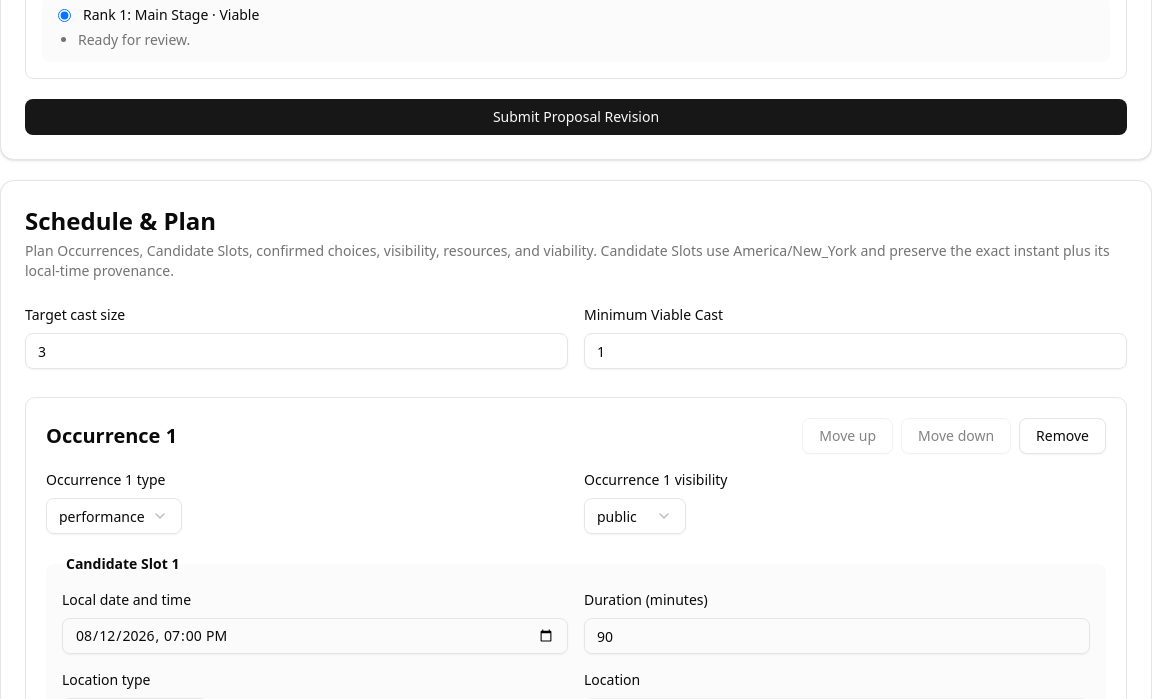
Test: ProposalPreparation › preserves a dirty plan while saving and refreshing the Proposed Cast
The image size is (1152, 699).
(page scrolled)
Replace the text in the number field labelled "Target cast size" with "4" at (296, 351), box 25,333 -> 568,369
(page scrolled)
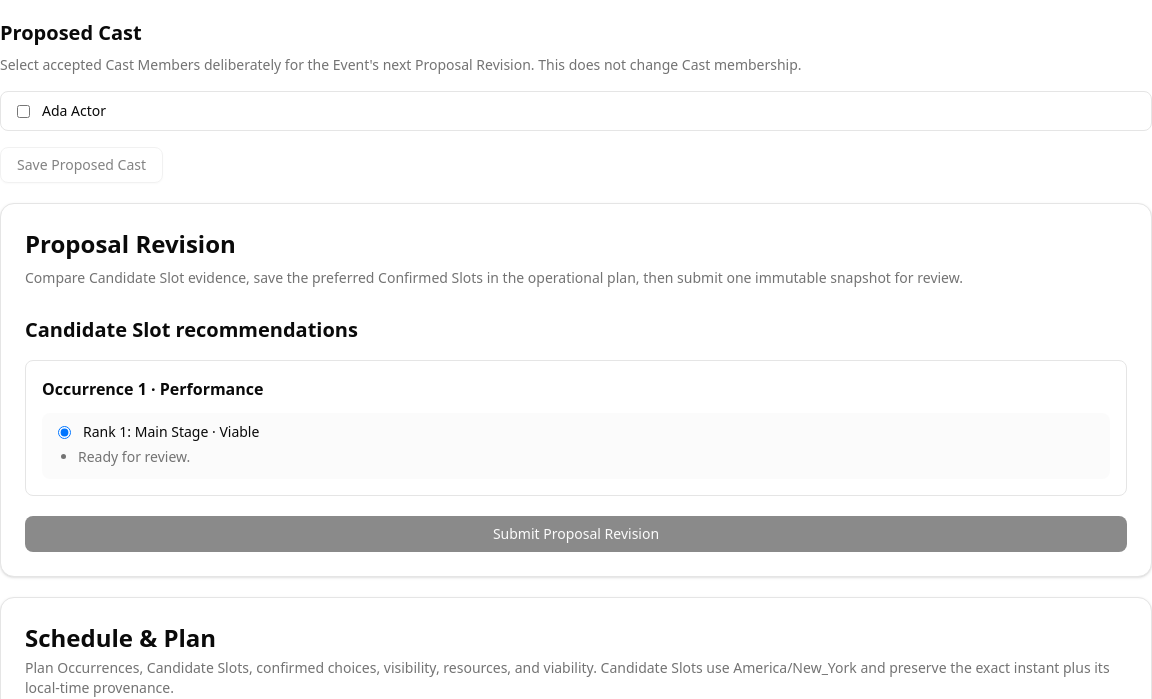
Click the checkbox labelled "Ada Actor" at (24, 111), box 17,104 -> 30,118
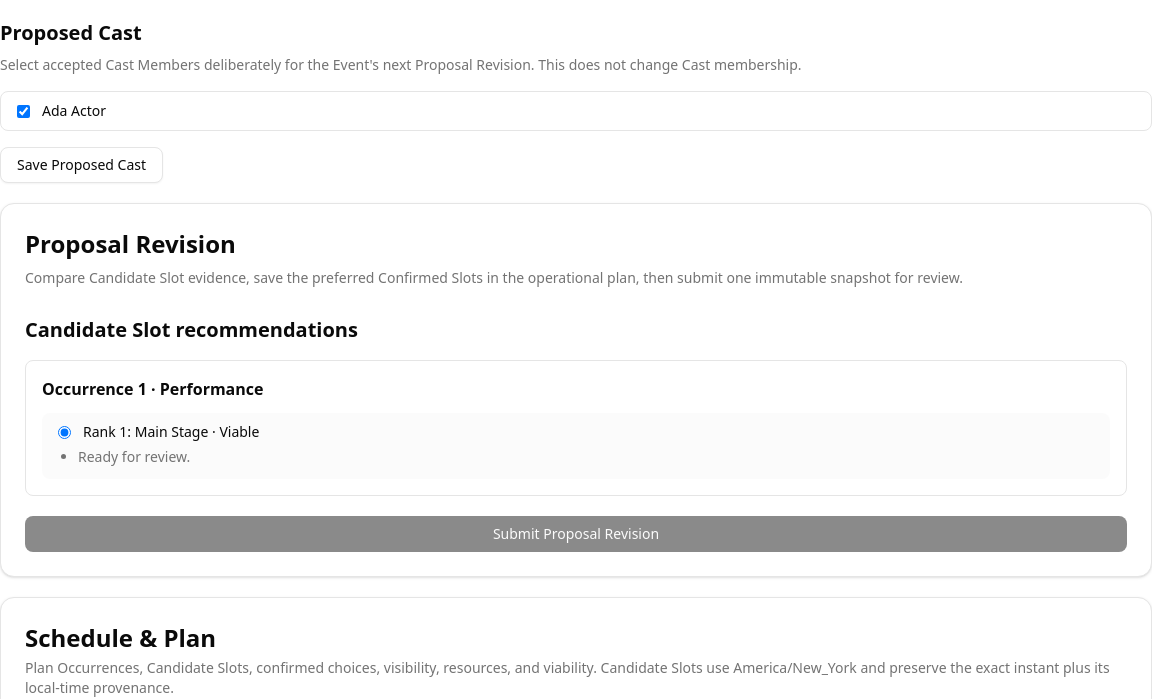
Click the button "Save Proposed Cast" at (82, 165), box 0,147 -> 163,183
(page scrolled)
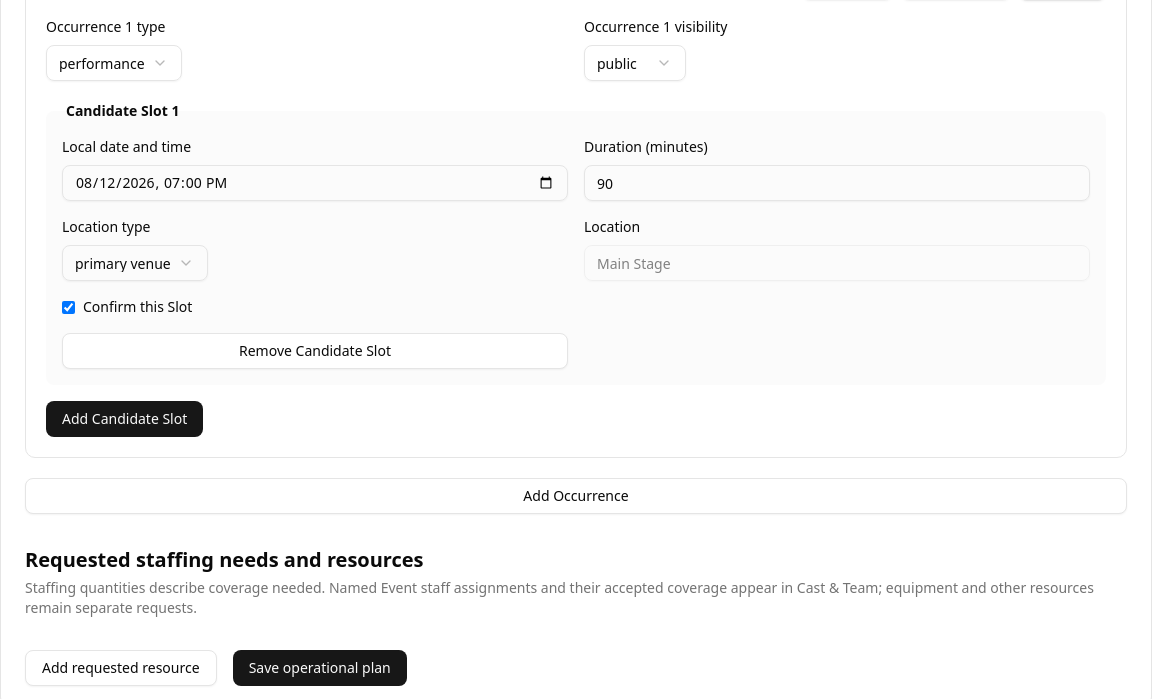
Click the button "Save operational plan" at (320, 668), box 233,650 -> 407,686
(page scrolled)
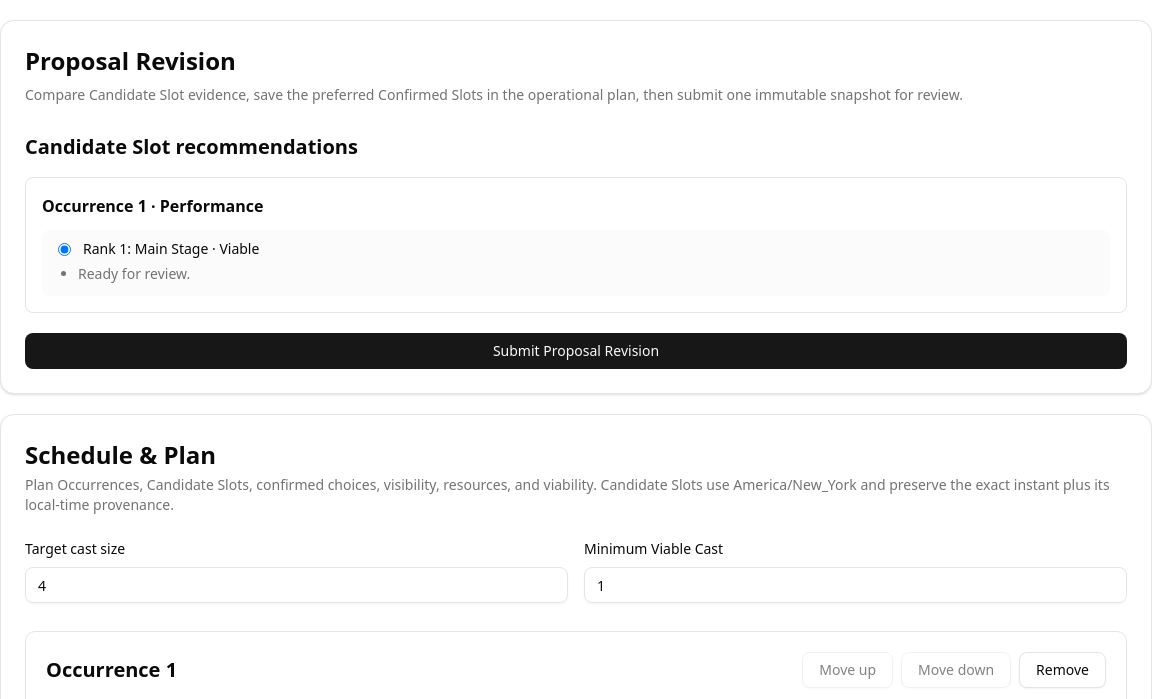
Expected: the button "Submit Proposal Revision" is enabled
Click the button "Submit Proposal Revision" at (576, 351), box 25,333 -> 1127,369
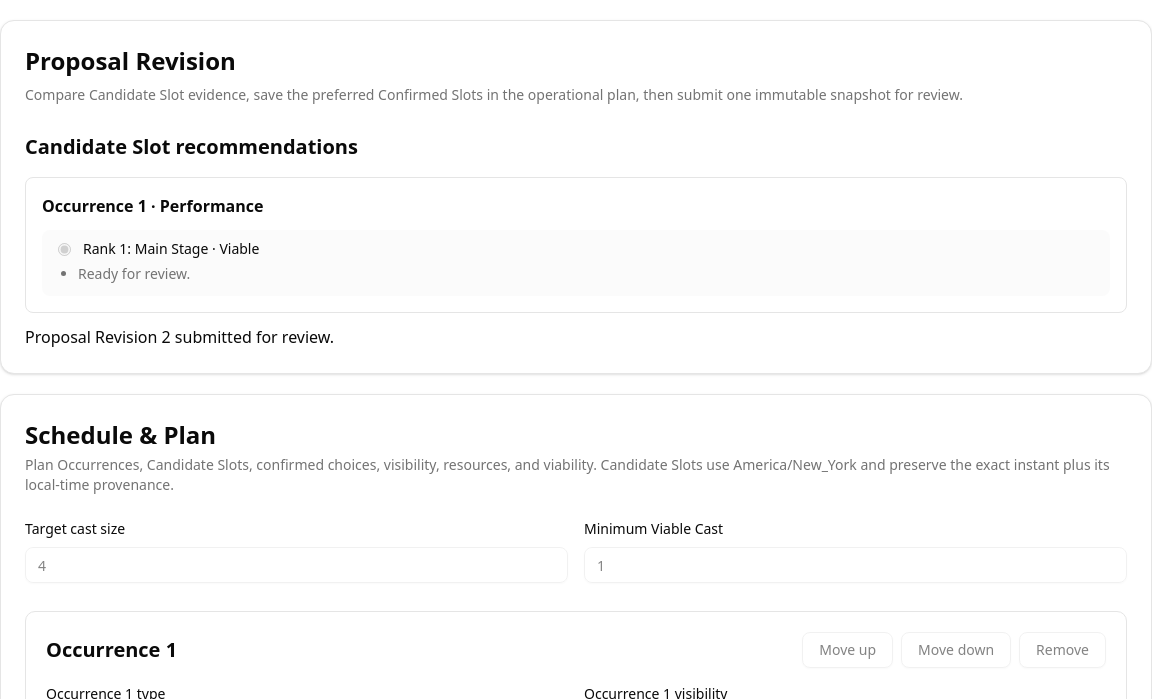
Expected: the text "Proposal Revision 2 submitted for review." is shown, 25,326 -> 334,348
